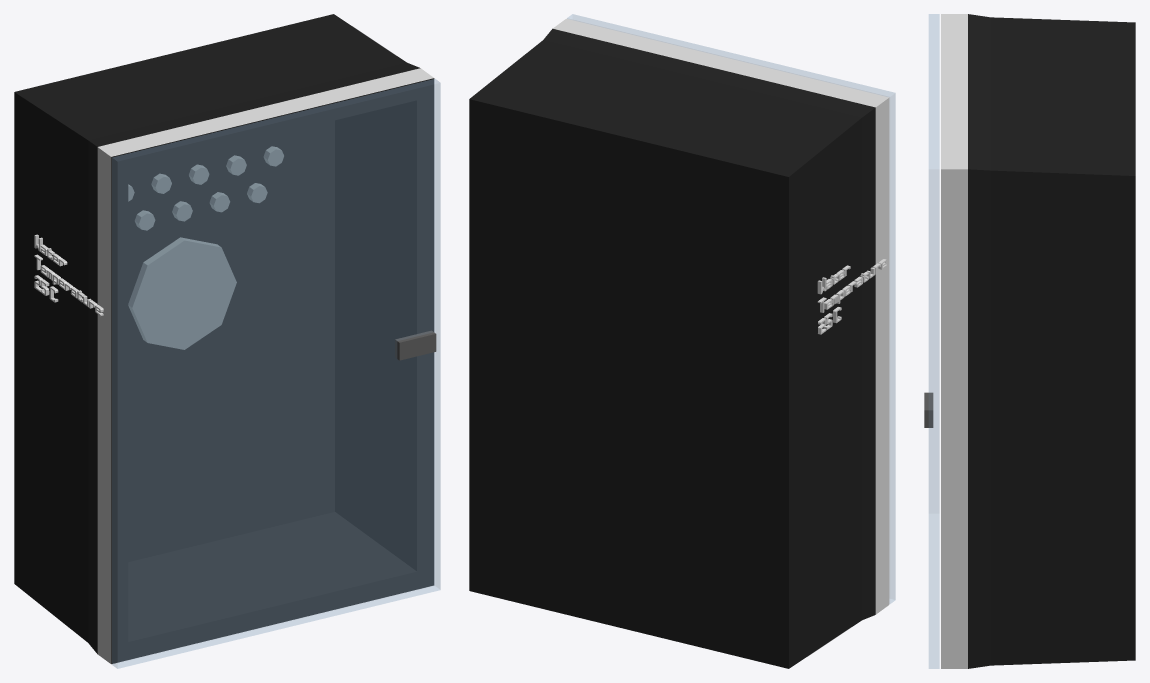
File: Shower-Cabin.fbx
3 views of the same model, side by side, from view 1: azimuth 30°, elevation 25°; view 2: azimuth 150°, elevation 25°; view 3: azimuth 270°, elevation 25° (orthographic).
Visible parts, largest first — view 1: Shower-Cabin, Shower-Canbin-Door; view 2: Shower-Cabin, Shower-Canbin-Door; view 3: Shower-Cabin, Shower-Canbin-Door.
Part boxes in pixels (bbox=[...]): Shower-Cabin: bbox=[14, 14, 434, 664]; Shower-Canbin-Door: bbox=[112, 79, 440, 668]; Shower-Cabin: bbox=[469, 18, 889, 668]; Shower-Canbin-Door: bbox=[567, 14, 895, 603]; Shower-Cabin: bbox=[941, 14, 1135, 668]; Shower-Canbin-Door: bbox=[924, 14, 939, 668].
Size of the model in its own units: 2.33 by 3.45 by 1.32.
